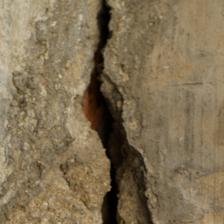Crack: (35, 4, 122, 217)
